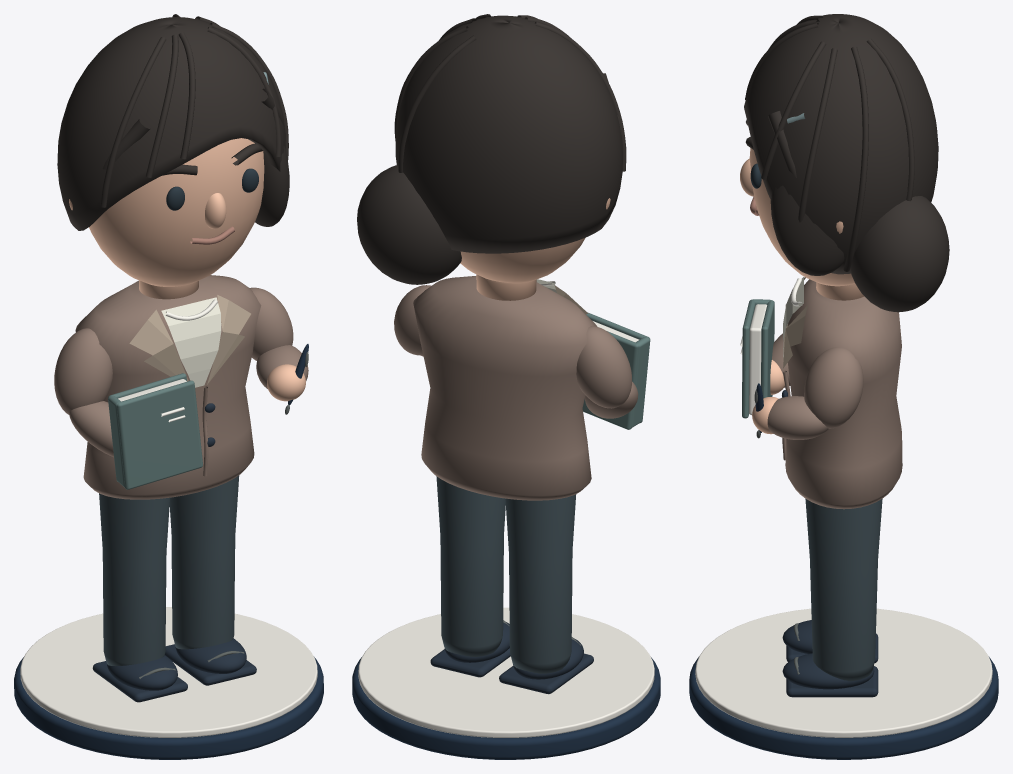
The model's file is teacher-female.glb.
The picture shows the model from 3 angles, left to right: view 1: azimuth 30°, elevation 25°; view 2: azimuth 150°, elevation 25°; view 3: azimuth 270°, elevation 25°; orthographic projection.
Visible parts, largest first — view 1: teacher-female-root-web; view 2: teacher-female-root-web; view 3: teacher-female-root-web.
Part boxes in pixels (left/top/right/bottom): teacher-female-root-web: left=14, top=14, right=323, bottom=759; teacher-female-root-web: left=352, top=14, right=660, bottom=759; teacher-female-root-web: left=689, top=14, right=998, bottom=759.
Bounding box in the file's own units: 1.28 × 3.07 × 1.28.
